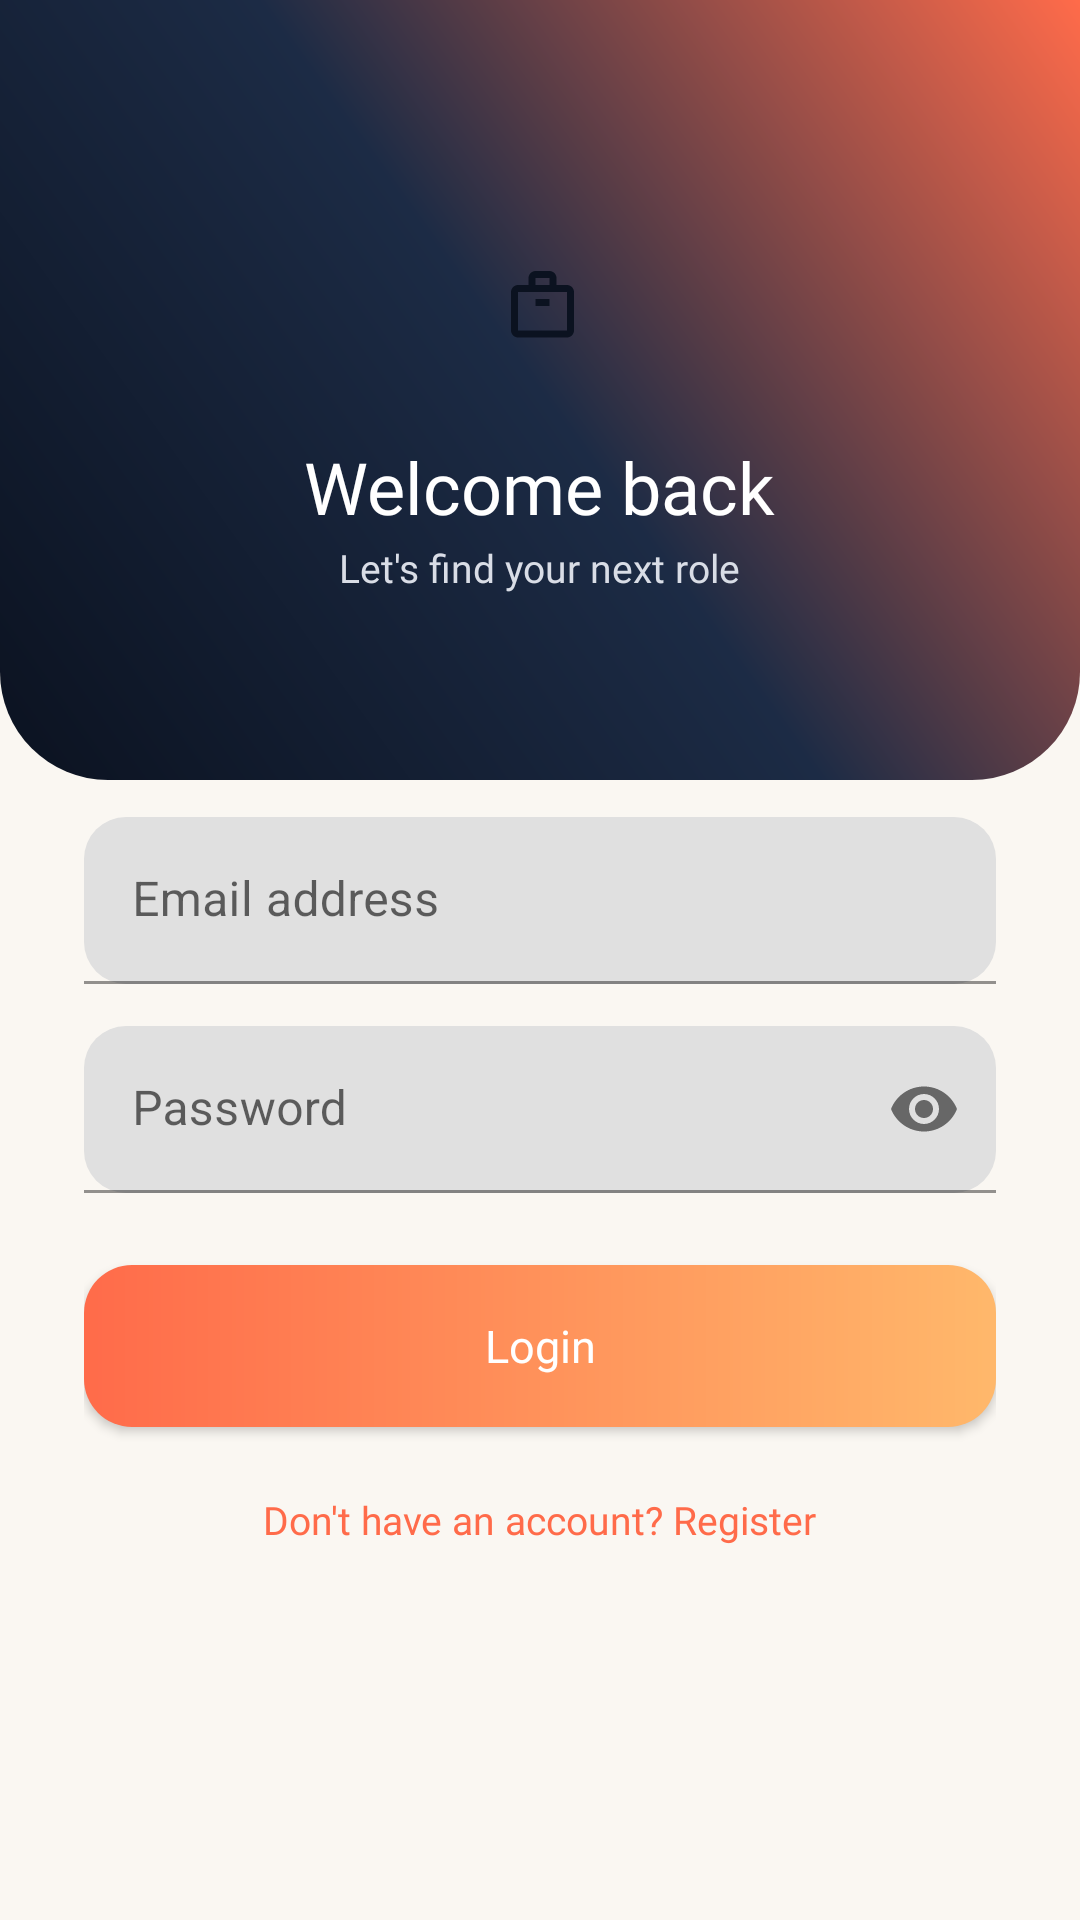

Icon click points for this 1080*1920 phone screenshot, format [x,y]:
briefcase: [542,304]
